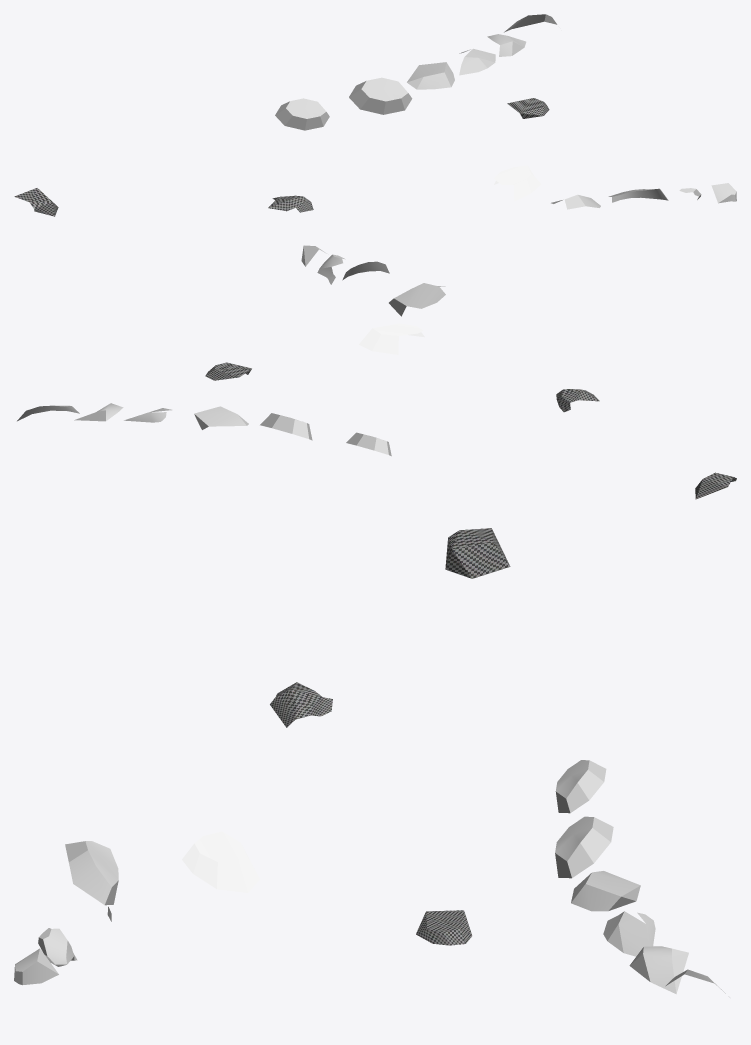
File: Rocks_river.glb
3 views of the same model, one above another, from view 1: azimuth 30°, elevation 25°; view 2: azimuth 150°, elevation 25°; view 3: azimuth 270°, elevation 25° (orthographic). The views are drawn at different scales.
Parts seen in each view (by area): view 1: Rock1.002, Rock1.003, Icosphere.007, Rock1, Icosphere.005, Icosphere.001, Icosphere, Icosphere.004, Icosphere.006, Circle, Icosphere.003, Rock1.001 (+1 smaller); view 2: Rock1, Rock1.001, Icosphere.007, Rock1.002, Icosphere.001, Icosphere, Icosphere.004, Rock1.003, Icosphere.006; view 3: Rock1, Rock1.001, Icosphere.001, Rock1.002, Icosphere.007, Rock1.003, Icosphere.006, Icosphere.004, Icosphere.005, Icosphere, Icosphere.003, Icosphere.002.
Part boxes in pixels (box(x1,y1,x2,y2)): Rock1.002: box(349, 77, 412, 114); Rock1.003: box(275, 98, 329, 130); Icosphere.007: box(407, 62, 454, 89); Rock1: box(494, 165, 541, 201); Icosphere.005: box(459, 48, 495, 75); Icosphere.001: box(14, 188, 58, 216); Icosphere: box(507, 98, 549, 118); Icosphere.004: box(268, 195, 313, 212); Icosphere.006: box(487, 34, 526, 56); Circle: box(608, 188, 668, 202); Icosphere.003: box(711, 183, 736, 203); Rock1.001: box(551, 194, 600, 209); Rock1: box(359, 323, 424, 354); Rock1.001: box(389, 283, 445, 316); Icosphere.007: box(194, 406, 248, 429); Rock1.002: box(260, 413, 312, 440); Icosphere.001: box(695, 472, 736, 499); Icosphere: box(205, 362, 251, 380); Icosphere.004: box(556, 389, 599, 412); Rock1.003: box(346, 432, 391, 456); Icosphere.006: box(74, 403, 123, 421); Rock1: box(182, 831, 259, 892); Rock1.001: box(65, 841, 118, 905); Icosphere.001: box(445, 528, 510, 578); Rock1.002: box(555, 816, 613, 878); Icosphere.007: box(571, 871, 640, 911); Rock1.003: box(555, 760, 606, 813); Icosphere.006: box(629, 946, 688, 994); Icosphere.004: box(270, 682, 332, 727); Icosphere.005: box(603, 911, 655, 956); Icosphere: box(416, 910, 472, 945); Icosphere.003: box(14, 948, 58, 985); Icosphere.002: box(38, 928, 77, 966).
Size of the model in its own units: 23.97 by 1.38 by 16.16.
2 materials, 1 textured.
